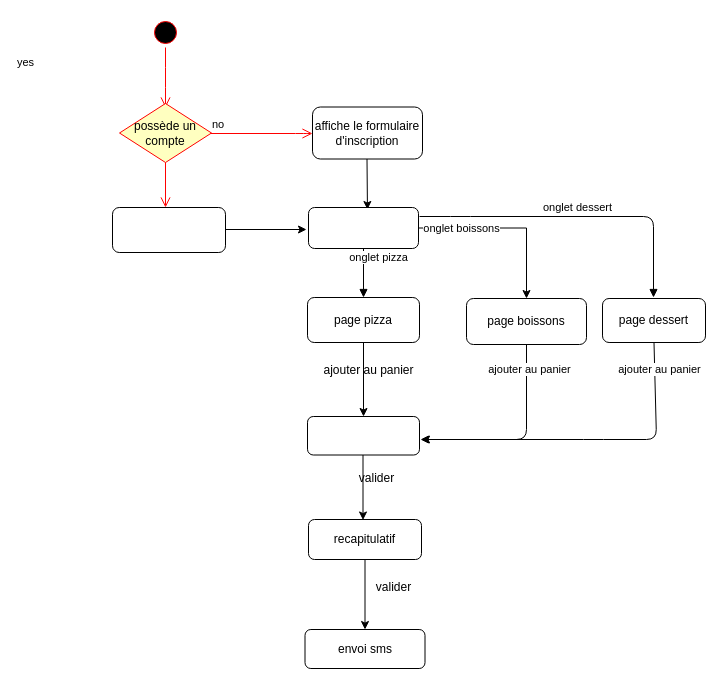
The diagram is 723 pixels wide and 686 high, and some of its shapes have lost their labels. Each missing label, with the centre of its shape:
affiche la page d'accueil: the point at 363,227
panier: the point at 363,435
se connecte: the point at 169,229
